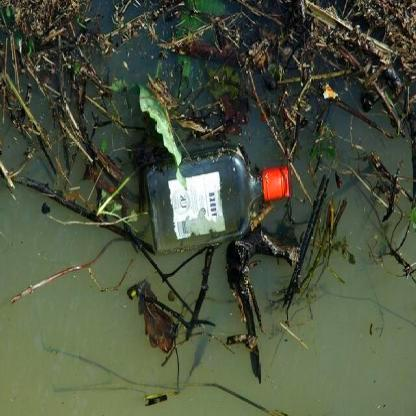Glass: (135, 147, 296, 257)
